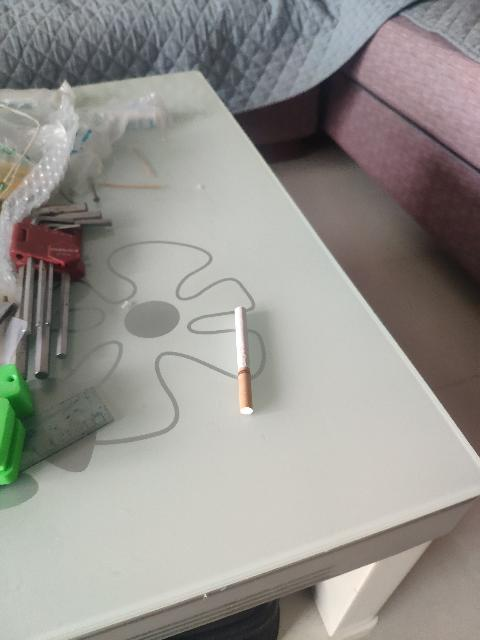Cigarette: (234, 306, 255, 414)
